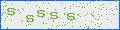s: (37, 10, 45, 18), (67, 13, 75, 20), (50, 12, 58, 19), (26, 15, 34, 22), (7, 8, 15, 15)
